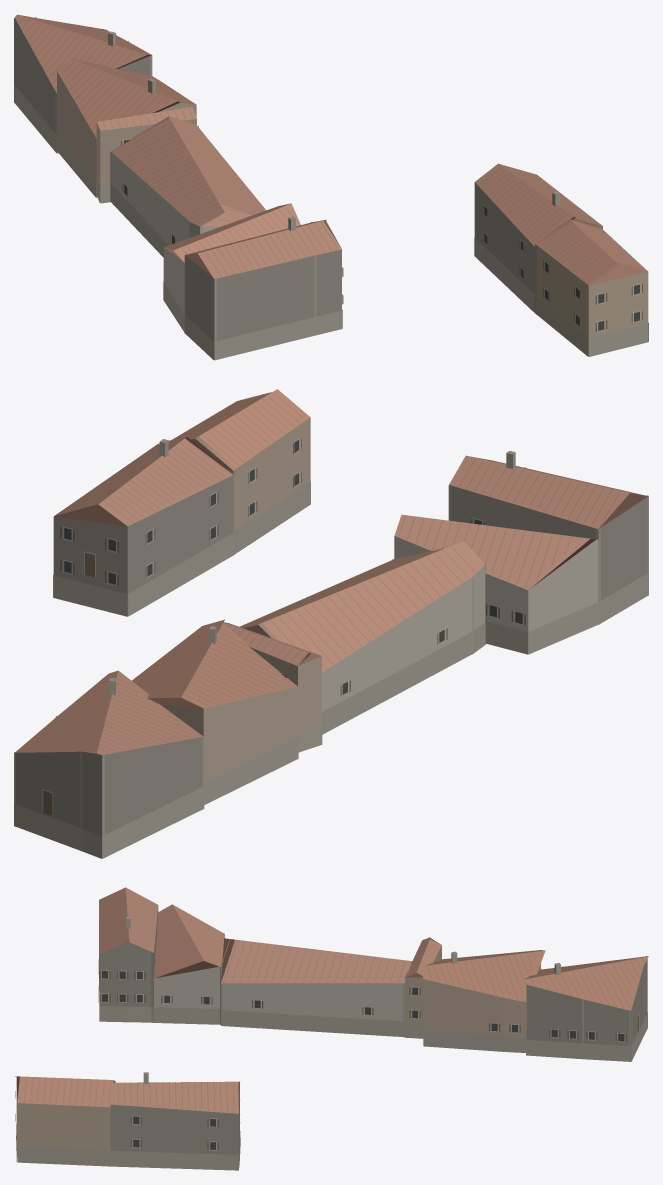
Rendered from pilot-houses.glb.
The picture shows the model from 3 angles, top to bottom: view 1: azimuth 30°, elevation 25°; view 2: azimuth 150°, elevation 25°; view 3: azimuth 270°, elevation 25°; orthographic projection. The views are drawn at different scales.
Visible parts, largest first — view 1: pueblo:pilot-houses:batched; view 2: pueblo:pilot-houses:batched; view 3: pueblo:pilot-houses:batched.
Boxes of the visible parts, x1,y1,x2,y2 form: pueblo:pilot-houses:batched: [14, 14, 648, 360]; pueblo:pilot-houses:batched: [14, 389, 648, 858]; pueblo:pilot-houses:batched: [15, 887, 648, 1170].
Size of the model in its own units: 46.79 by 16.16 by 74.73.
